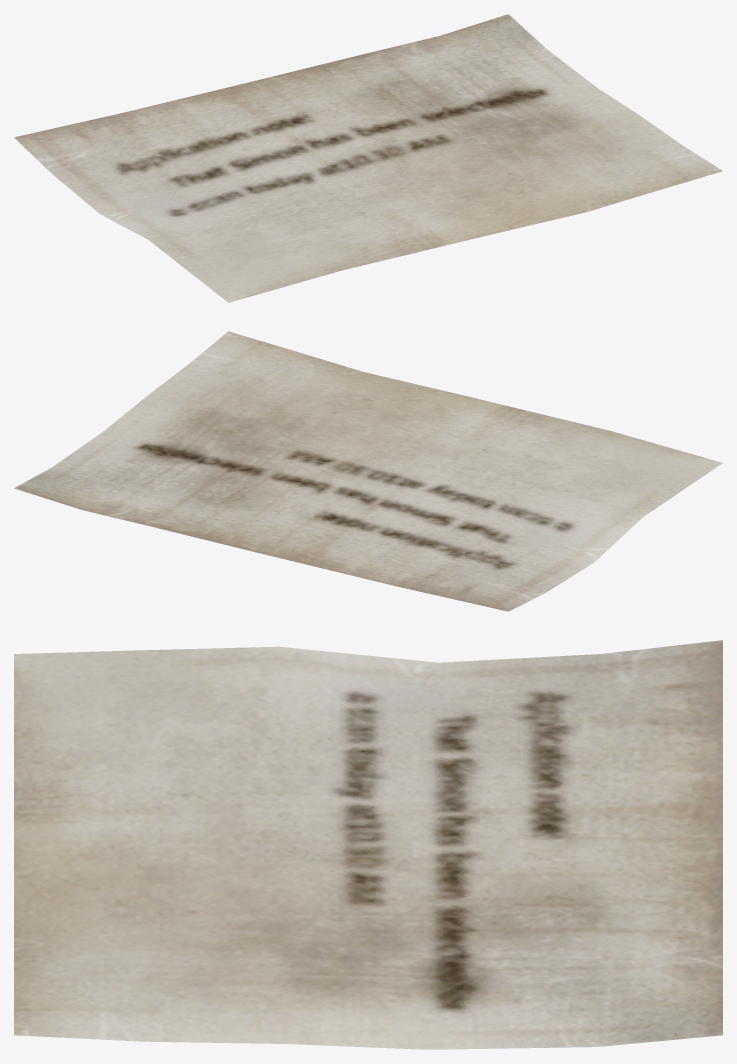
File: note_scanning_appointment.dae
The picture shows the model from 3 angles, top to bottom: view 1: azimuth 30°, elevation 25°; view 2: azimuth 150°, elevation 25°; view 3: azimuth 270°, elevation 25°; orthographic projection. The views are drawn at different scales.
Parts seen in each view (by area): view 1: note_scanning_appointment; view 2: note_scanning_appointment; view 3: note_scanning_appointment.
Boxes of the visible parts, box(x1,y1,x2,y2) form: note_scanning_appointment: box(14, 14, 722, 302); note_scanning_appointment: box(14, 331, 722, 611); note_scanning_appointment: box(14, 640, 722, 1049).
Size of the model in its own units: 19.84 by 0.6326 by 14.9.
